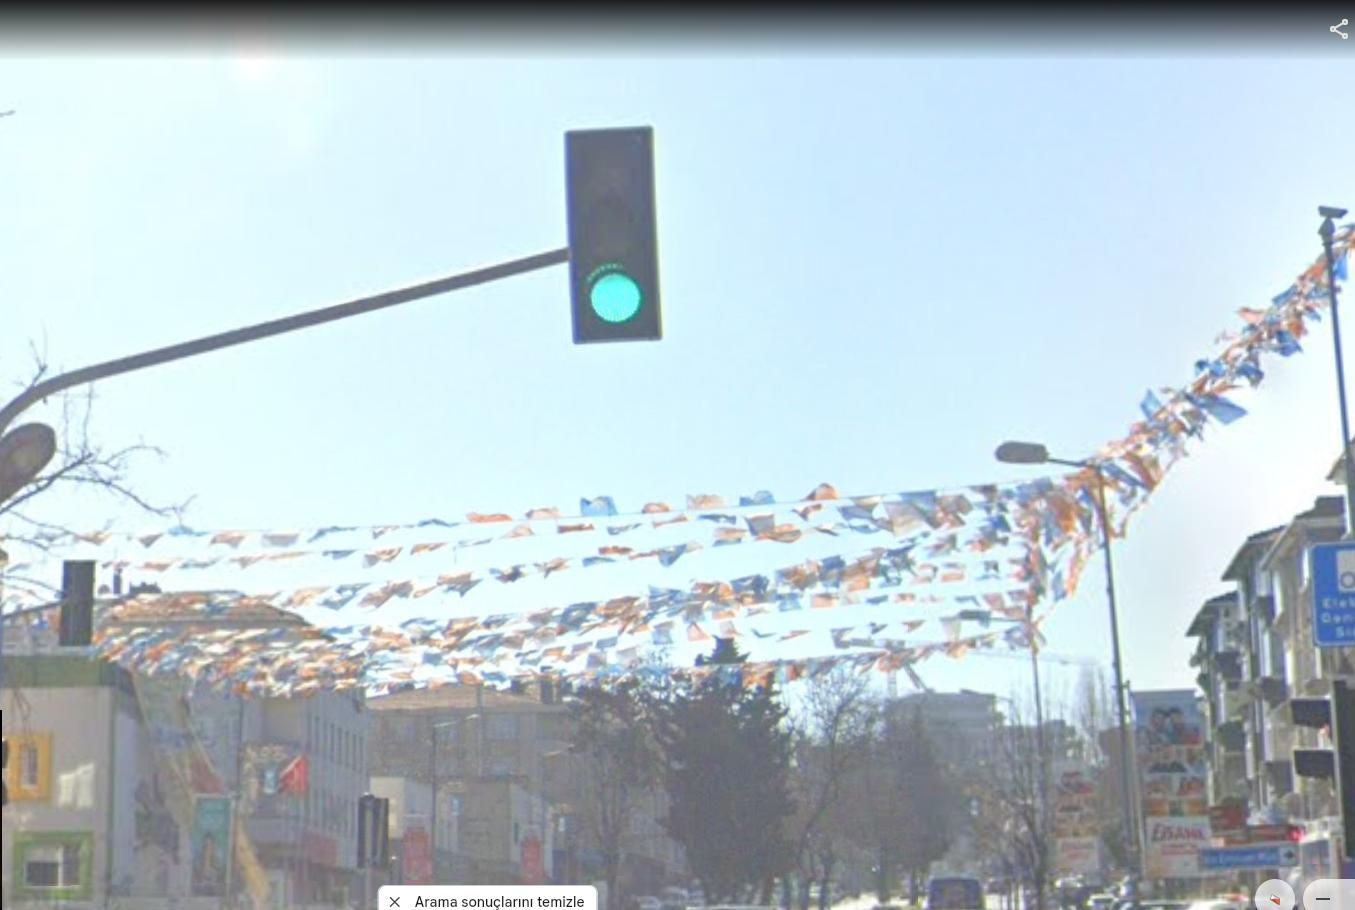greenlight: (567, 129, 658, 333)
